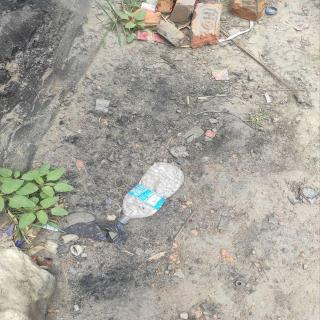Plastic-bottle: (116, 160, 187, 228)
